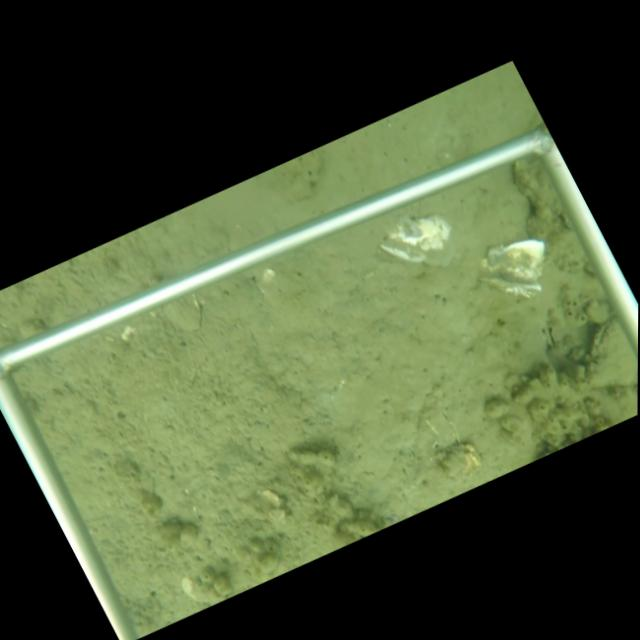Oyster-Closed: (581, 312, 638, 389)
